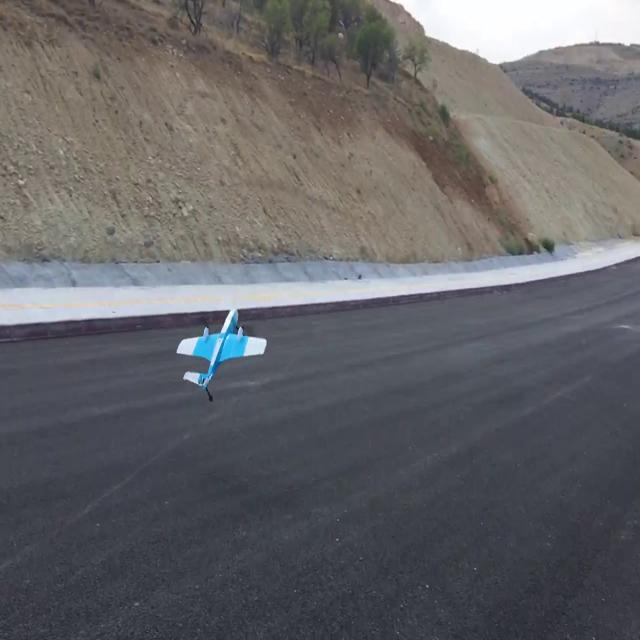iha: (206, 337, 237, 359)
